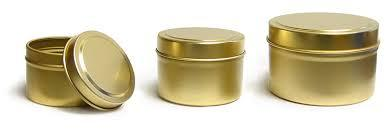Tin: (12, 9, 389, 123)
